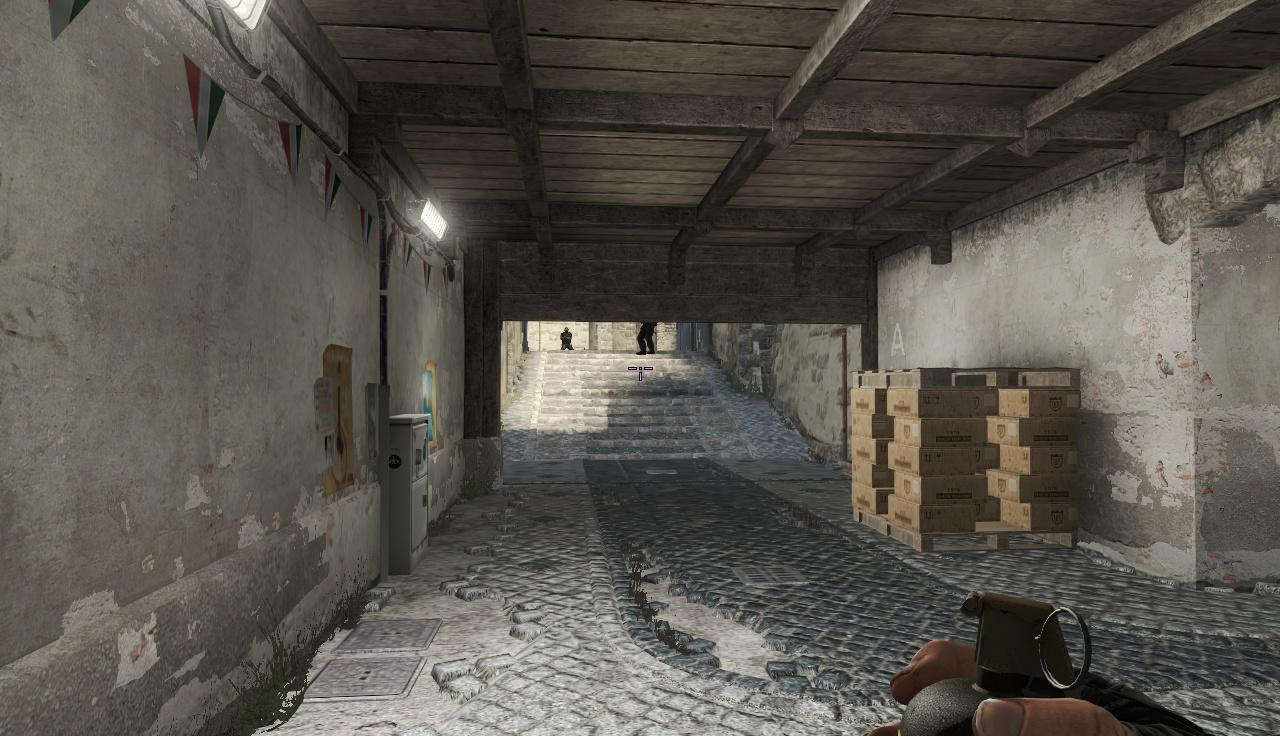ct: (638, 321, 654, 354), (561, 327, 573, 351)
